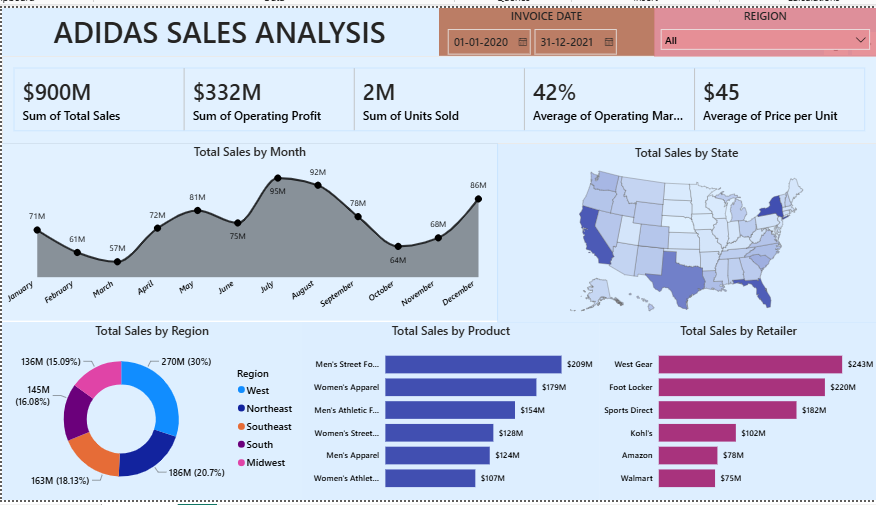

This screenshot's page, from the dashboard's own definition file:
{"tool":"powerbi","page":{"name":"Page 1","canvas":[1280,720],"ordinal":0},"visuals":[{"type":"textbox","box":[0,0,1280,70.6],"z":0},{"type":"cardVisual","fields":{"Data":["Sum(Data Sales Adidas.Total Sales)","Sum(Data Sales Adidas.Operating Profit)","Sum(Data Sales Adidas.Units Sold)","Avg(Data Sales Adidas.Operating Margin)","Avg(Data Sales Adidas.Price per Unit)"]},"box":[0,70.6,1280,127.8],"z":1000},{"type":"areaChart","title":" Total Sales by Month","fields":{"Category":["Data Sales Adidas.Invoice Date.Variation.Date Hierarchy.Month"],"Y":["Sum(Data Sales Adidas.Total Sales)"]},"box":[0,198.2,725.7,260.4],"z":2000},{"type":"shapeMap","title":" Total Sales by State","fields":{"Category":["Data Sales Adidas.State"],"Value":["Sum(Data Sales Adidas.Total Sales)"]},"box":[724.9,198.5,555.1,260.7],"z":3000},{"type":"donutChart","title":"Total Sales by Region","fields":{"Category":["Data Sales Adidas.Region"],"Y":["Sum(Data Sales Adidas.Total Sales)"]},"box":[0,459.2,439,260.7],"z":5000},{"type":"barChart","title":" Total Sales by Product","fields":{"Category":["Data Sales Adidas.Product"],"Y":["Sum(Data Sales Adidas.Total Sales)"]},"box":[439,459.2,435.6,260.7],"z":6000},{"type":"barChart","title":" Total Sales by Retailer","fields":{"Y":["Sum(Data Sales Adidas.Total Sales)"],"Category":["Data Sales Adidas.Retailer"]},"box":[874.6,459.2,405.4,260.7],"z":7000},{"type":"slicer","title":"REIGION","fields":{"Values":["Data Sales Adidas.Region"]},"box":[954.1,0,325.9,70.6],"z":8000},{"type":"slicer","title":"INVOICE DATE","fields":{"Values":["Data Sales Adidas.Invoice Date"]},"box":[639.5,0,314.6,70.2],"z":8001}]}

Visuals, with their boxes in screenshot pixels (x1, y1, x2, y2), scaled from the page's 1280x720 canvas onto the 876x505 screenshot:
textbox: x1=0, y1=0, x2=875, y2=50
cardVisual - Sum(Data Sales Adidas.Total Sales) x Sum(Data Sales Adidas.Operating Profit): x1=0, y1=50, x2=875, y2=139
" Total Sales by Month" areaChart: x1=0, y1=139, x2=497, y2=322
" Total Sales by State" shapeMap: x1=496, y1=139, x2=875, y2=322
"Total Sales by Region" donutChart: x1=0, y1=322, x2=300, y2=504
" Total Sales by Product" barChart: x1=300, y1=322, x2=599, y2=504
" Total Sales by Retailer" barChart: x1=599, y1=322, x2=875, y2=504
"REIGION" slicer: x1=653, y1=0, x2=875, y2=50
"INVOICE DATE" slicer: x1=438, y1=0, x2=653, y2=49
